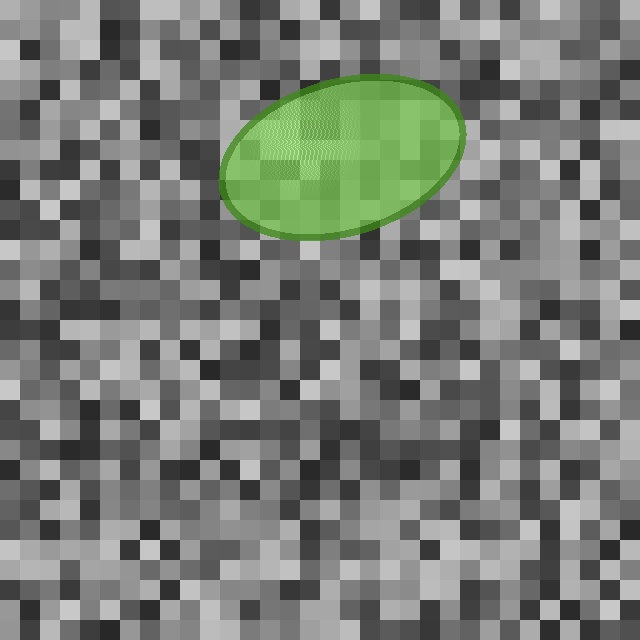lens: (222, 77, 462, 237)
